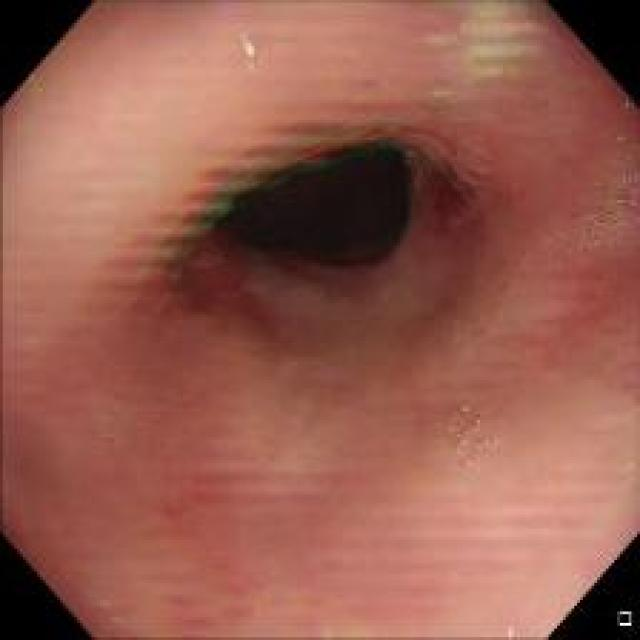bubbles: (562, 162, 636, 255), (441, 399, 499, 471), (578, 210, 608, 246)
color misalignment: (240, 124, 411, 190), (448, 5, 549, 79), (175, 168, 236, 258), (228, 29, 265, 64), (466, 412, 485, 439)
contrast: (228, 136, 426, 265)
